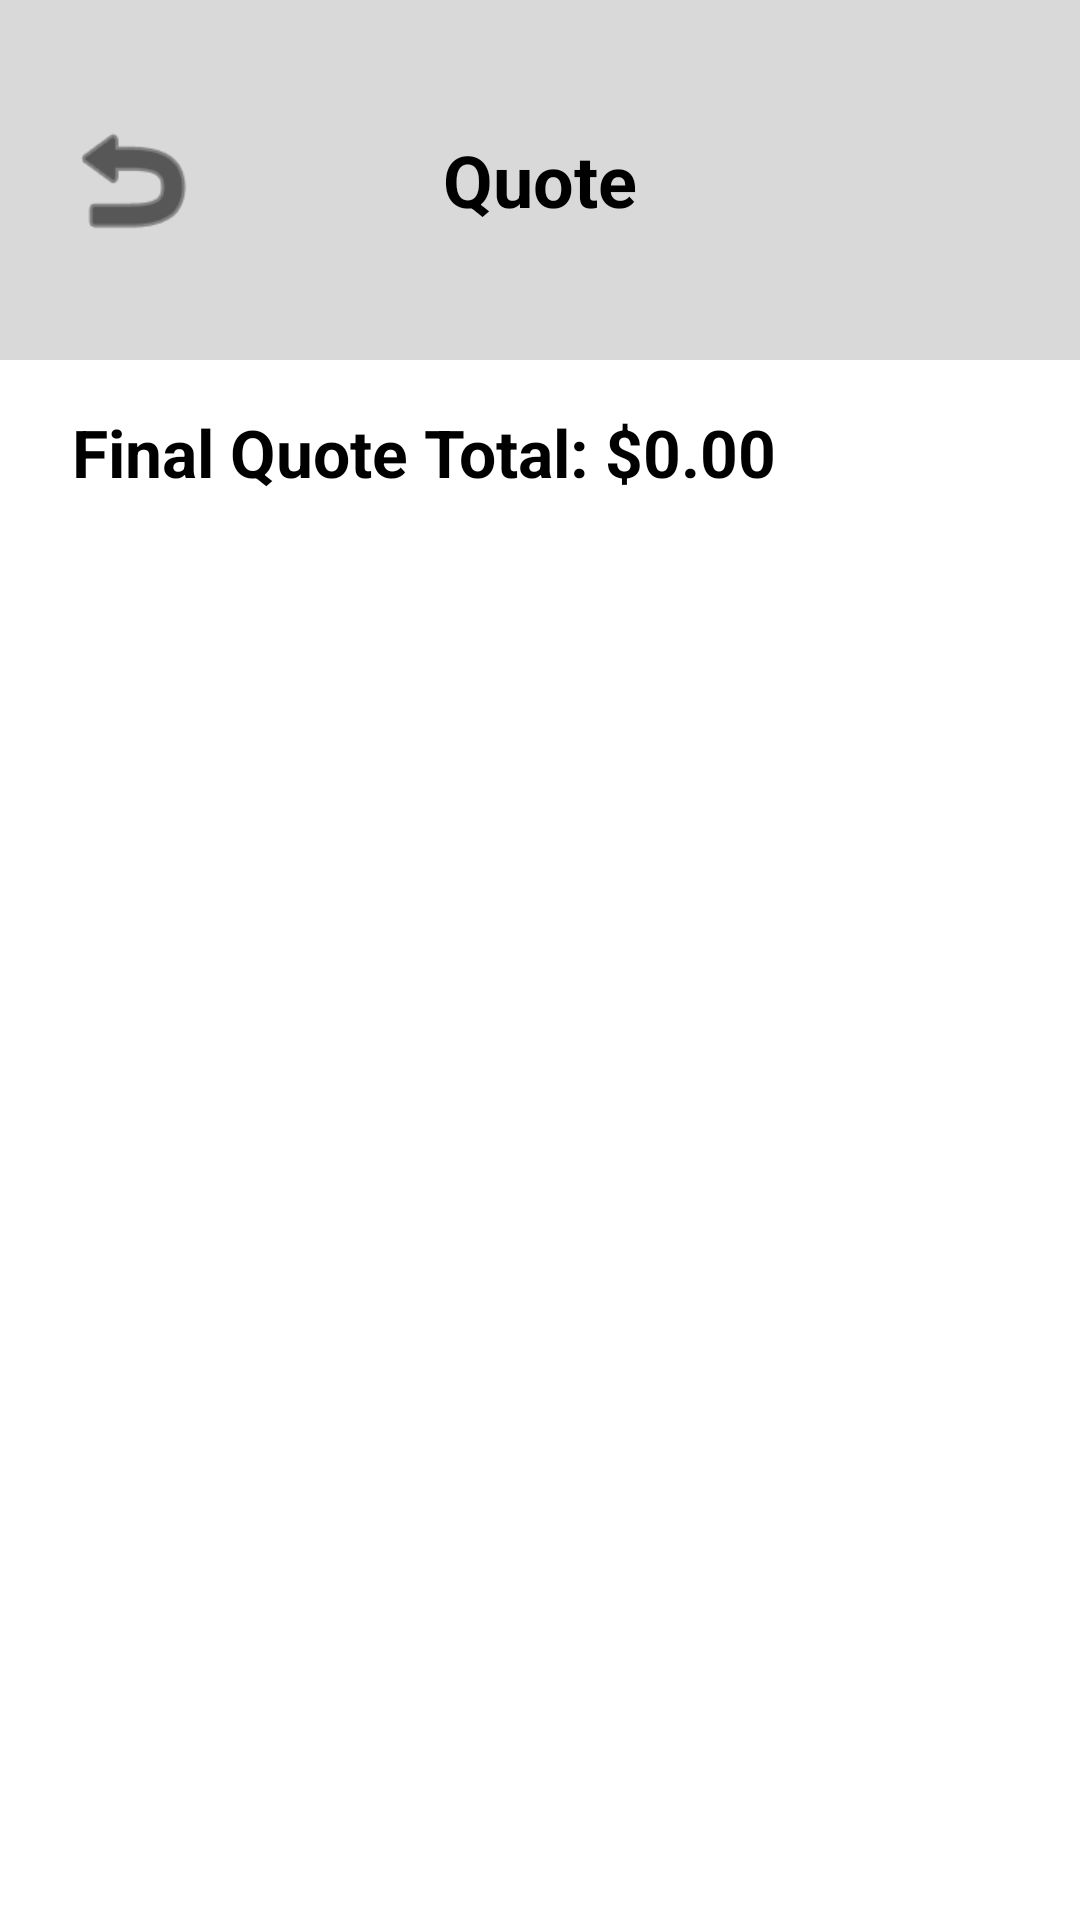

Where to tap for icons on this 1080x1920 app screen, as (x,y):
revert: (134,181)
